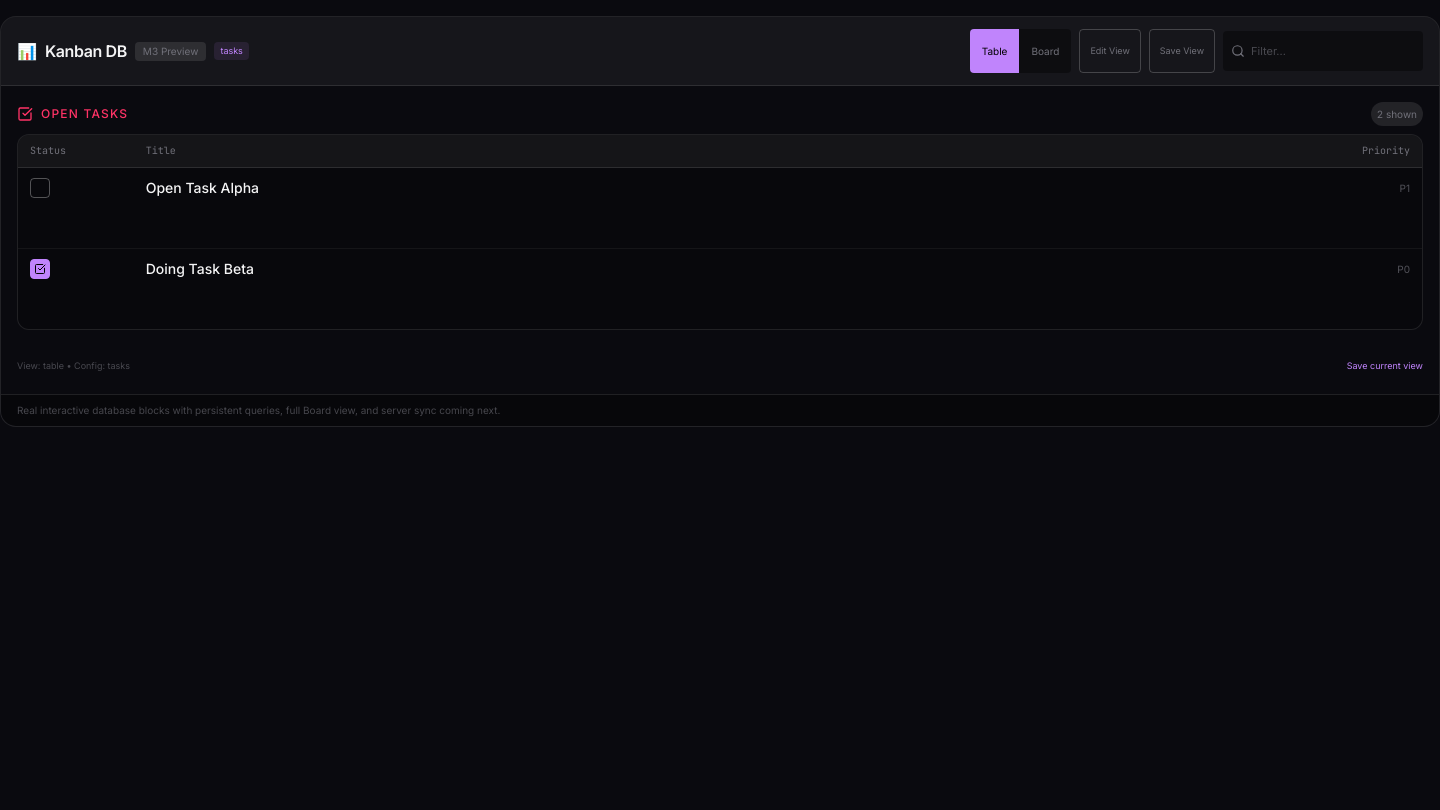
Test case: M2 Targeted Regression (drag, picker, restore, export) › DB Kanban drag within columns: board view renders three status columns as drop targets using boardTasks
Click the button "Board". click: click(1045, 51)
box: [1019,29,1071,73]
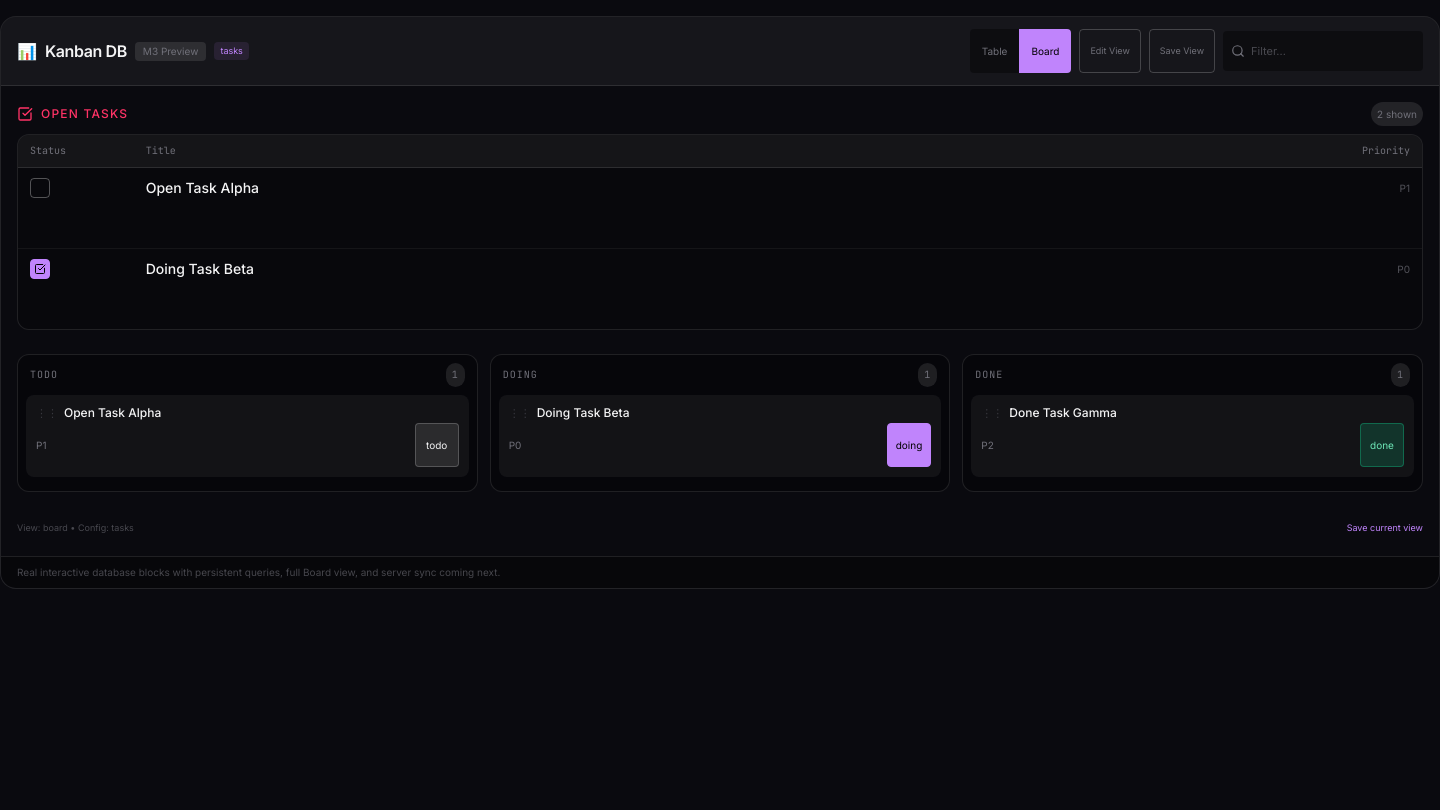
expect the text "TODO" is shown: met, box [30,365,58,385]
expect the text "DOING" is shown: met, box [503,365,538,385]
expect the text "DONE" is shown: met, box [975,365,1003,385]
